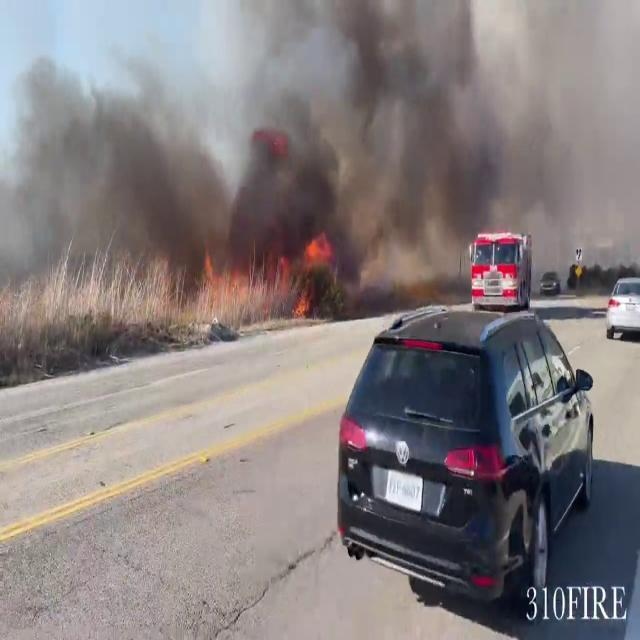Smoke: (0, 2, 625, 296)
